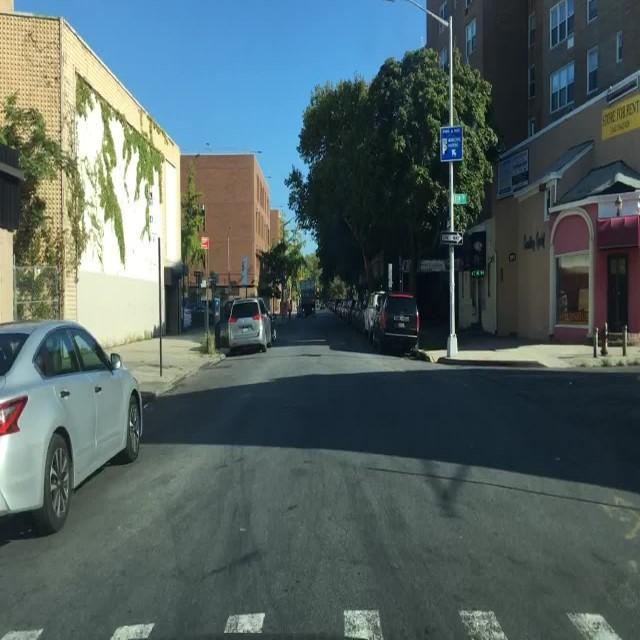normal: (0, 323, 143, 538), (219, 298, 277, 355), (369, 291, 422, 352)
